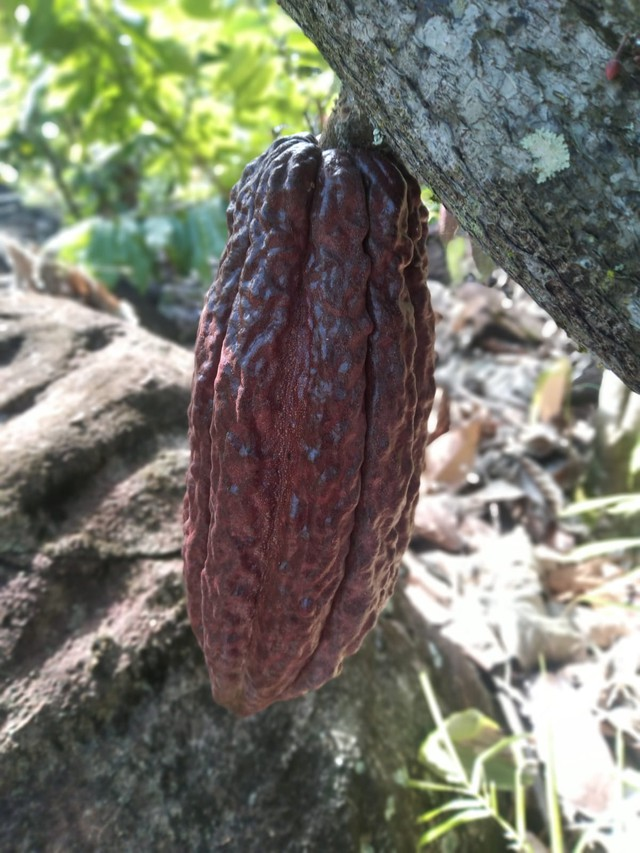Health: (156, 117, 461, 729)
